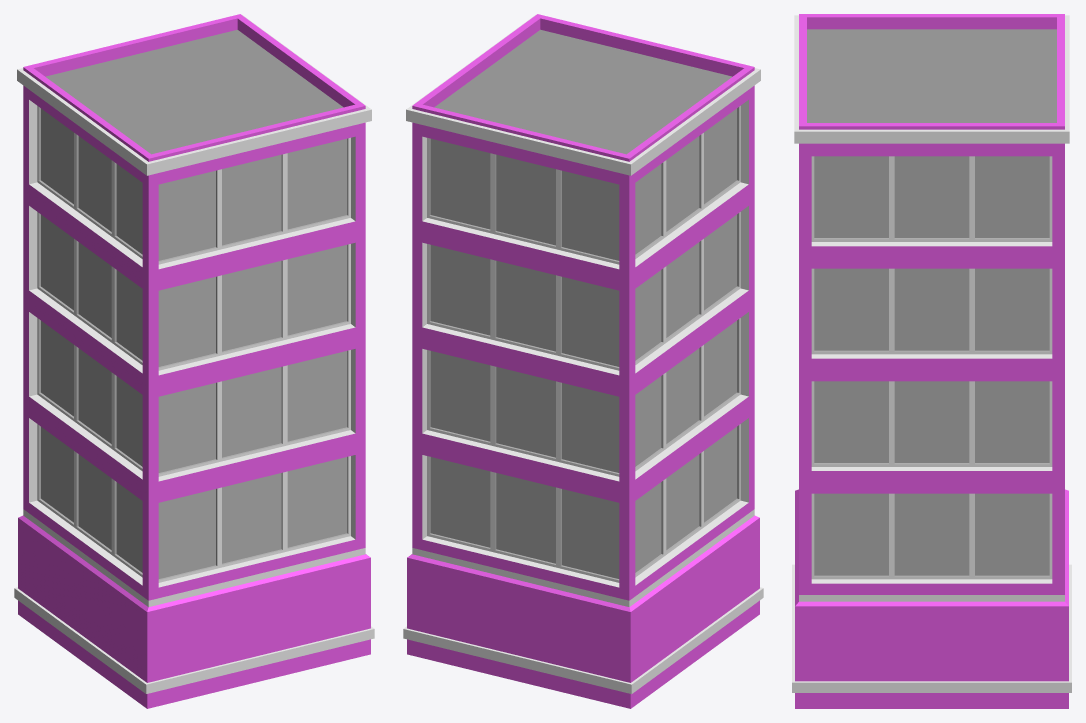
Rendered from SM_House_05_04.FBX.
The picture shows the model from 3 angles, left to right: view 1: azimuth 30°, elevation 25°; view 2: azimuth 150°, elevation 25°; view 3: azimuth 270°, elevation 25°; orthographic projection. The views are drawn at different scales.
Visible parts, largest first — view 1: SM_House_05_04; view 2: SM_House_05_04; view 3: SM_House_05_04.
Boxes of the visible parts, left/top/right/bottom form: SM_House_05_04: left=14, top=14, right=374, bottom=708; SM_House_05_04: left=403, top=14, right=763, bottom=708; SM_House_05_04: left=792, top=14, right=1071, bottom=708.
Bounding box in the file's own units: 3.16 × 7.23 × 3.16.
1 material, 1 textured.
